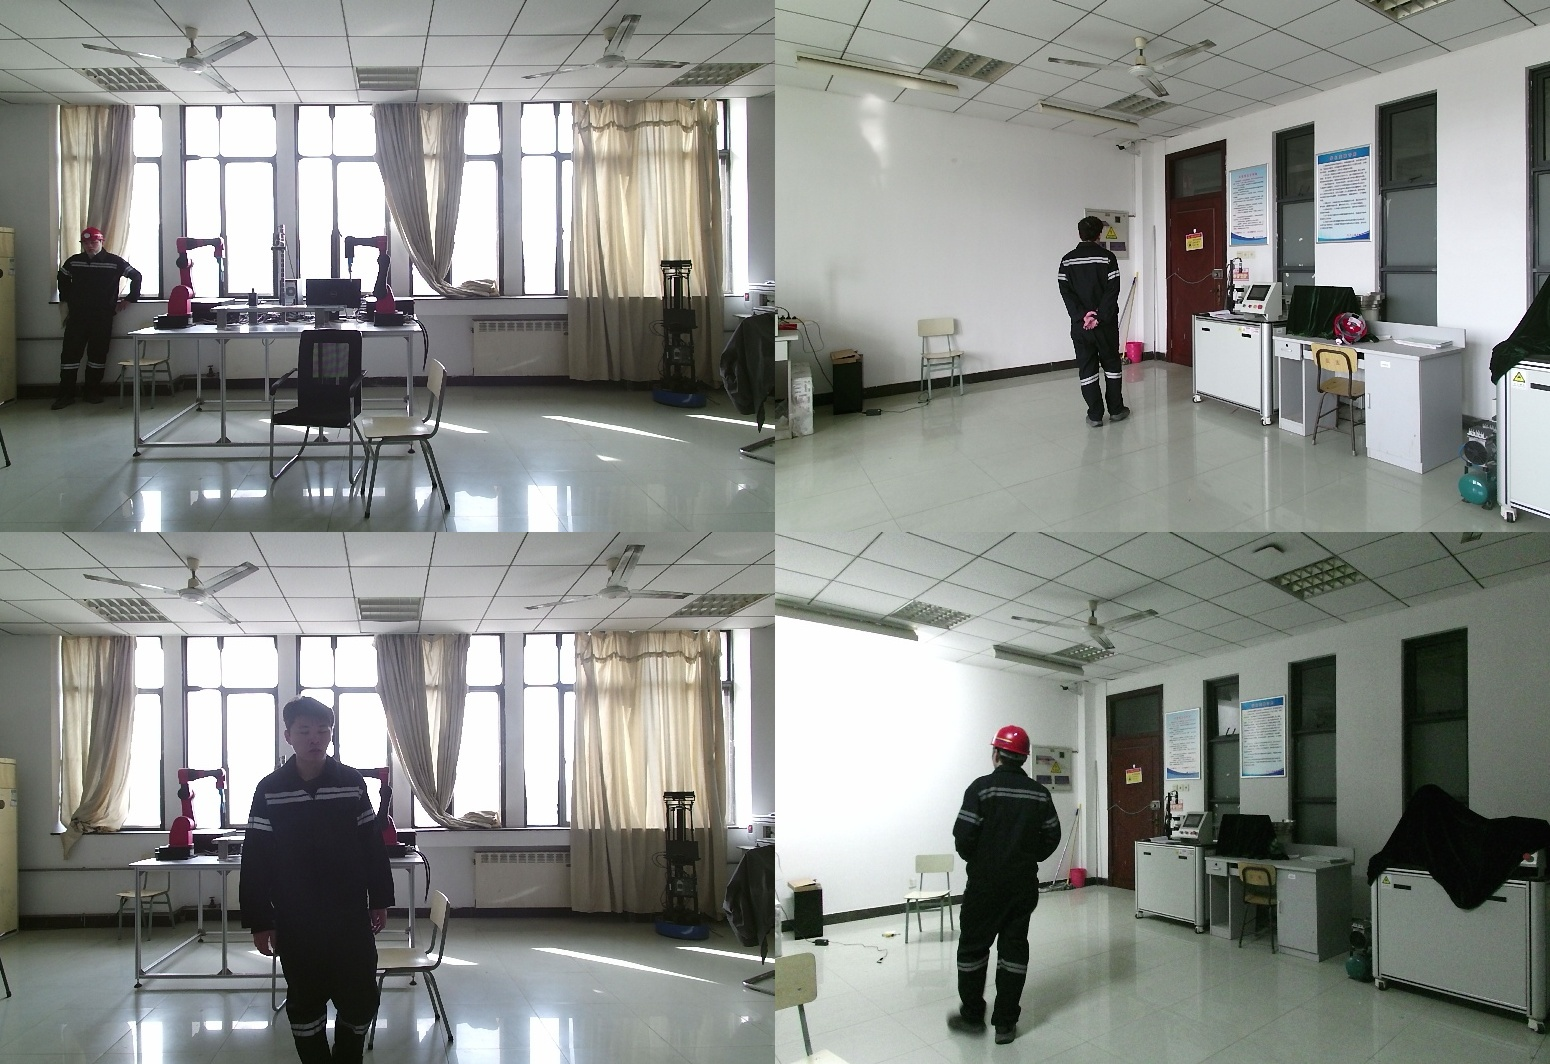person: (244, 700, 401, 1064), (955, 723, 1078, 1056), (1054, 215, 1135, 432), (53, 226, 142, 404)
